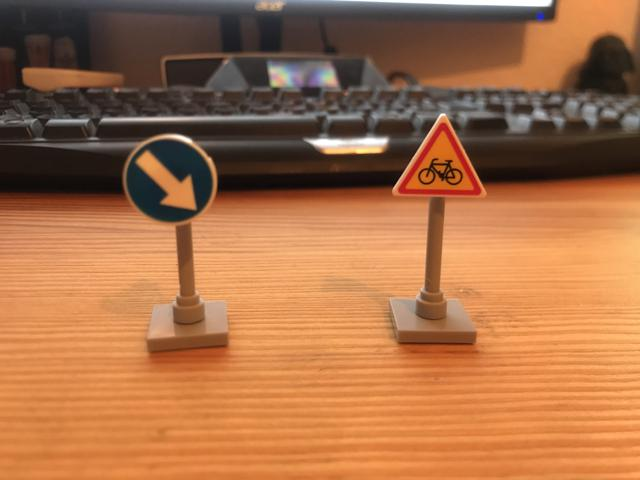radfahrer: (394, 114, 490, 199)
rechts halten: (122, 134, 217, 225)
